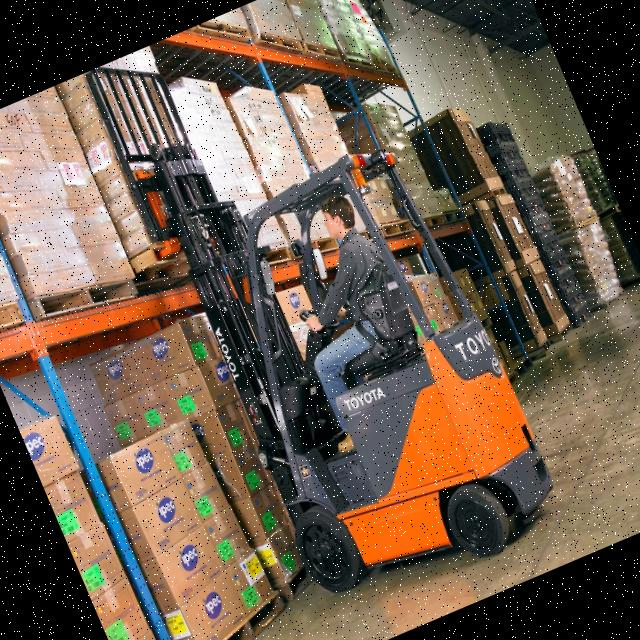Person: (246, 187, 447, 453)
